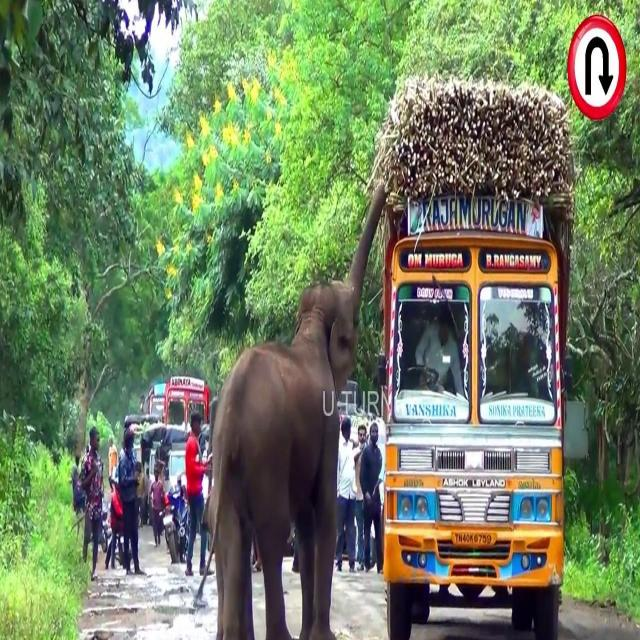Elephant: (206, 182, 386, 638)
